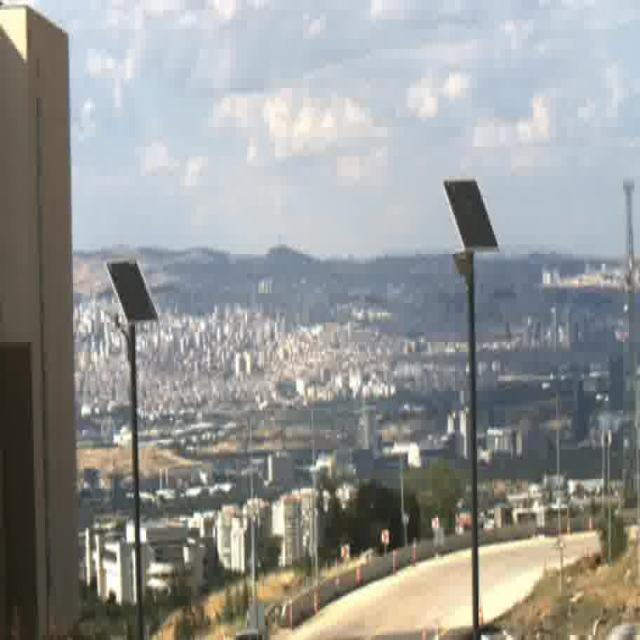Car: (233, 626, 263, 640)
